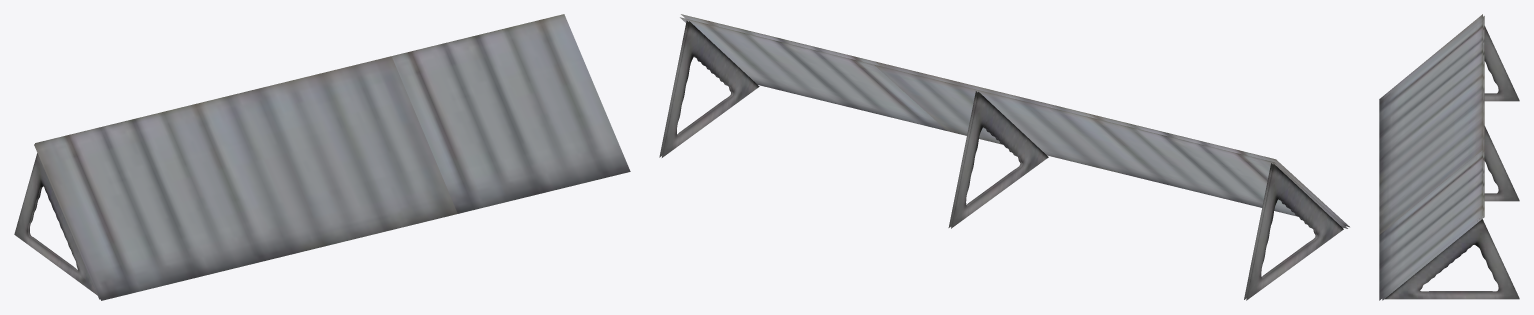
File: corrigatedmetalbarricade_hdtex.glb
The picture shows the model from 3 angles, left to right: view 1: azimuth 30°, elevation 25°; view 2: azimuth 150°, elevation 25°; view 3: azimuth 270°, elevation 25°; orthographic projection. The views are drawn at different scales.
Visible parts, largest first — view 1: CorrigatedMetalBarricade; view 2: CorrigatedMetalBarricade; view 3: CorrigatedMetalBarricade.
Boxes of the visible parts, left/top/right/bottom form: CorrigatedMetalBarricade: left=14, top=14, right=630, bottom=300; CorrigatedMetalBarricade: left=659, top=14, right=1349, bottom=300; CorrigatedMetalBarricade: left=1379, top=14, right=1519, bottom=300.
Bounding box in the file's own units: 8.41 × 1.66 × 2.47.
1 material, 1 textured.
